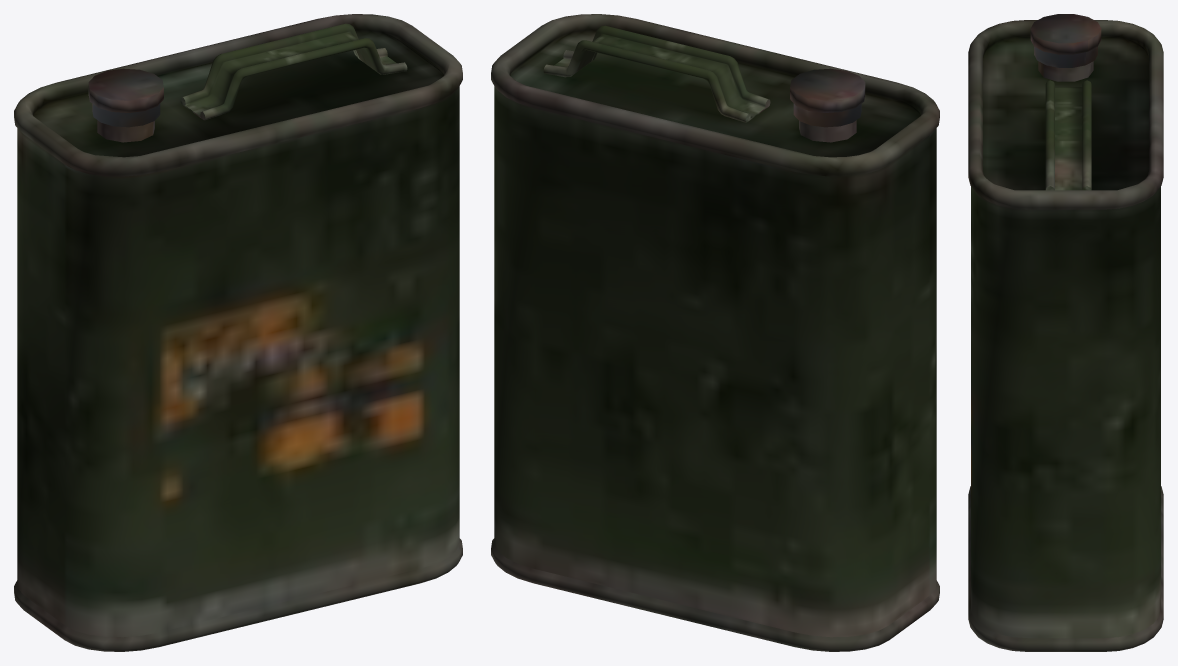
Rendered from jerry-can--2.gltf.
The picture shows the model from 3 angles, left to right: view 1: azimuth 30°, elevation 25°; view 2: azimuth 150°, elevation 25°; view 3: azimuth 270°, elevation 25°; orthographic projection. The views are drawn at different scales.
Visible parts, largest first — view 1: oil.can2, handle2, cap2, cap.rim2; view 2: oil.can2, handle2, cap2, cap.rim2; view 3: oil.can2, handle2, cap2, cap.rim2.
Boxes of the visible parts, x1,y1,x2,y2 form: oil.can2: (14, 14, 462, 651); handle2: (180, 23, 407, 120); cap2: (88, 68, 163, 127); cap.rim2: (97, 120, 154, 142); oil.can2: (491, 14, 939, 651); handle2: (543, 25, 770, 122); cap2: (790, 68, 865, 127); cap.rim2: (799, 120, 856, 142); oil.can2: (968, 20, 1163, 651); handle2: (1045, 80, 1091, 190); cap2: (1030, 14, 1101, 67); cap.rim2: (1038, 61, 1093, 81).
Bounding box in the file's own units: 0.355 × 0.45 × 0.164.
Materials: 4 (4 with a texture image).
